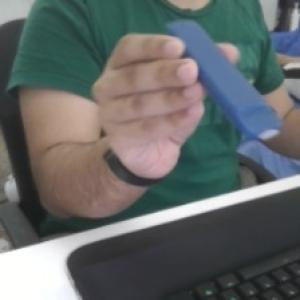Diamond-E-Ciggirate: (164, 16, 286, 144)
